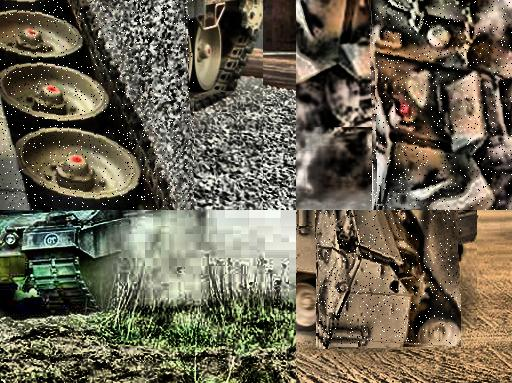tanks: (1, 1, 164, 211), (370, 1, 512, 211), (316, 211, 462, 345), (1, 211, 149, 313), (191, 211, 192, 215)
